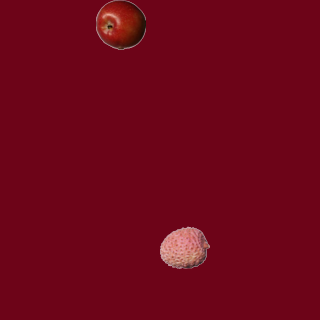Apple Braeburn: (95, 0, 145, 49)
Lychee: (159, 222, 209, 272)
